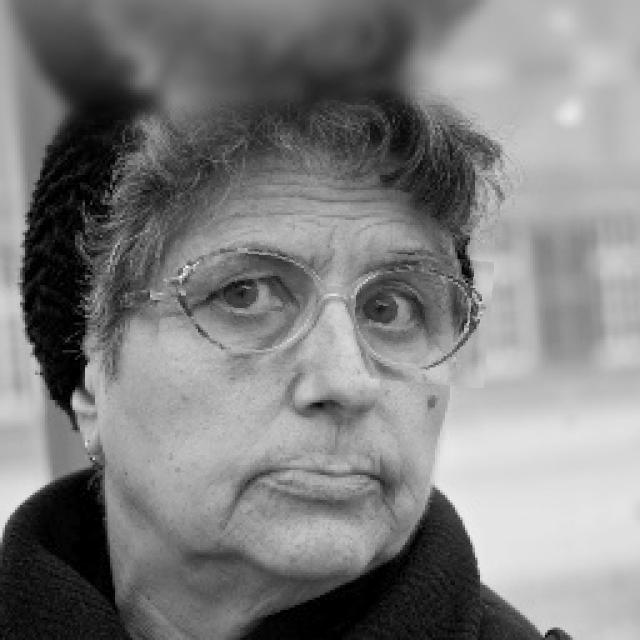glasses: (159, 240, 492, 381)
